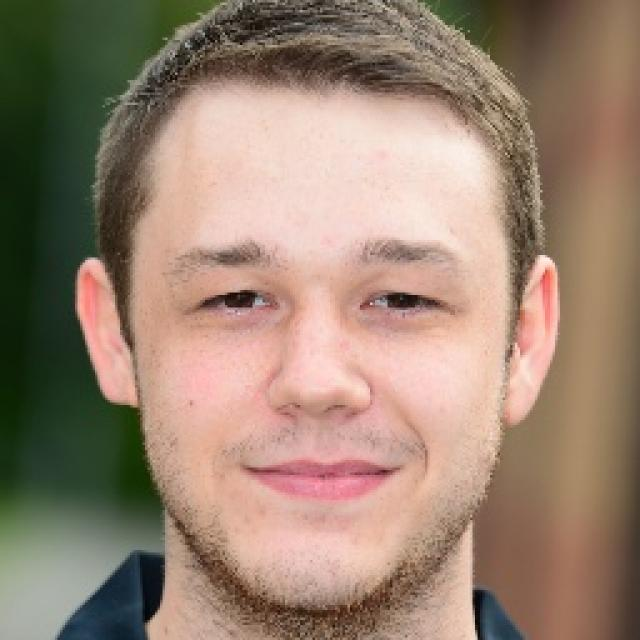earlobe: (500, 365, 541, 426), (98, 357, 138, 408)
eye: (197, 286, 280, 316), (362, 290, 449, 318)
nose: (265, 397, 367, 448)
wholeear: (500, 255, 561, 428), (73, 255, 139, 408)
